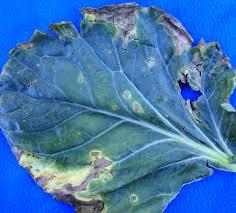Bok-Choy-Diseased: (0, 2, 228, 213)
